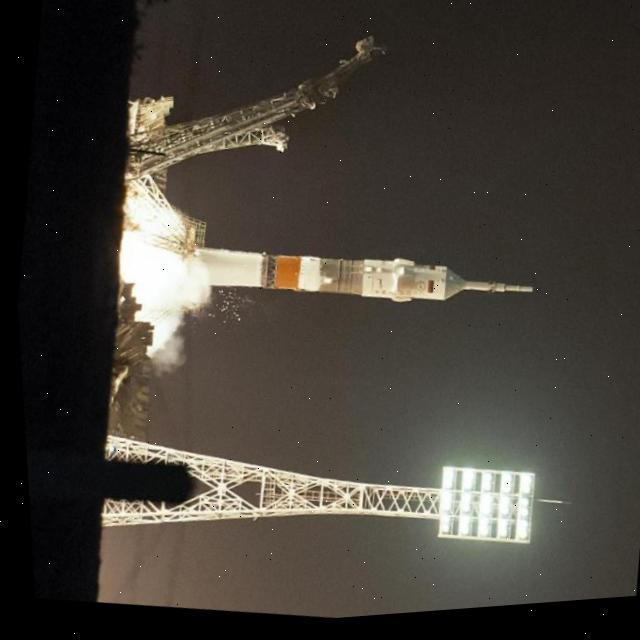missile: (178, 224, 542, 340)
